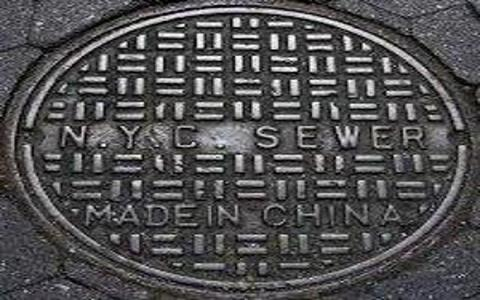proper manhole: (1, 1, 473, 298)
